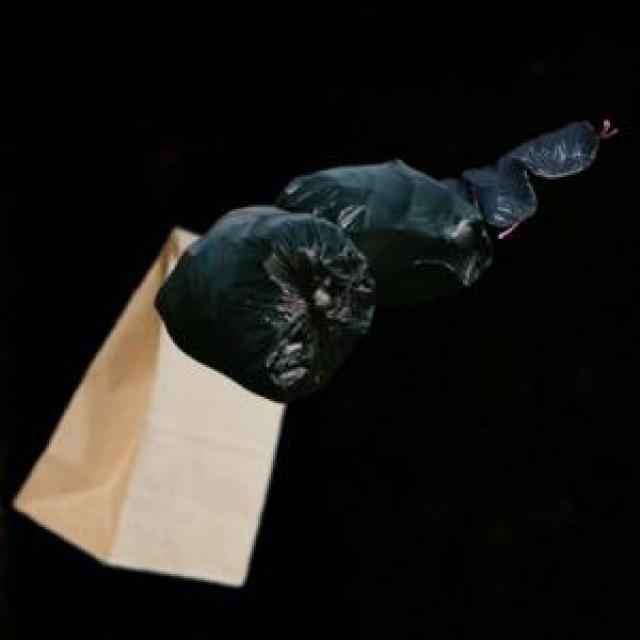miscellaneous trash: (152, 156, 489, 399), (433, 117, 595, 222)
paper: (11, 226, 280, 580)
